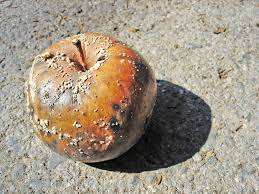damaged_apple: (24, 33, 157, 160)
